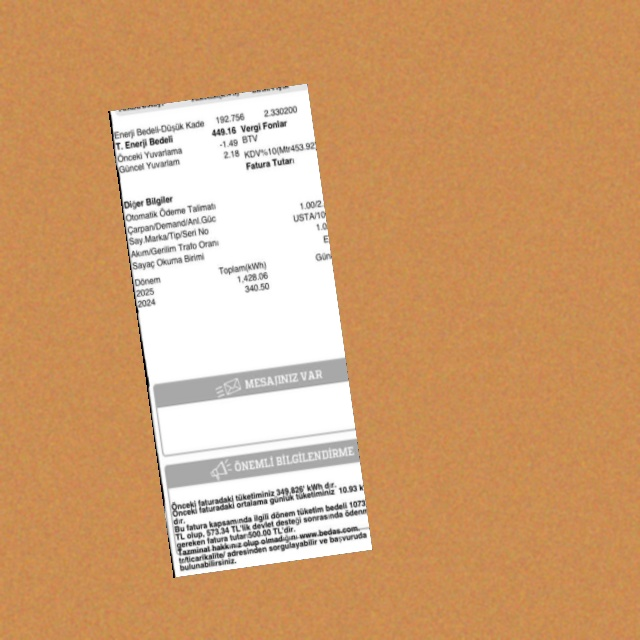electricity-bill: (108, 83, 372, 577)
